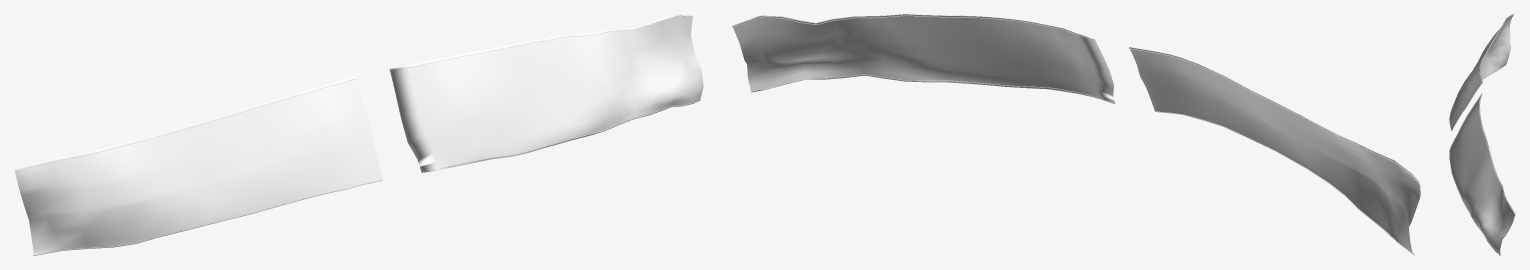
File: Jac_Flic_TOP.glb
3 views of the same model, side by side, from view 1: azimuth 30°, elevation 25°; view 2: azimuth 150°, elevation 25°; view 3: azimuth 270°, elevation 25° (orthographic). The views are drawn at different scales.
Parts seen in each view (by area): view 1: Jac_Flic_TOP.001, Jac_Rope_Flic_TOP.001; view 2: Jac_Flic_TOP.001, Jac_Rope_Flic_TOP.001; view 3: Jac_Flic_TOP.001, Jac_Rope_Flic_TOP.001.
Part boxes in pixels (bbox=[...]): Jac_Flic_TOP.001: bbox=[14, 14, 703, 255]; Jac_Rope_Flic_TOP.001: bbox=[16, 15, 700, 255]; Jac_Flic_TOP.001: bbox=[732, 14, 1420, 255]; Jac_Rope_Flic_TOP.001: bbox=[732, 15, 1417, 255]; Jac_Flic_TOP.001: bbox=[1449, 14, 1515, 255]; Jac_Rope_Flic_TOP.001: bbox=[1449, 15, 1514, 255].
Size of the model in its own units: 0.7398 by 0.1278 by 0.1079.
2 materials, 2 textured.
